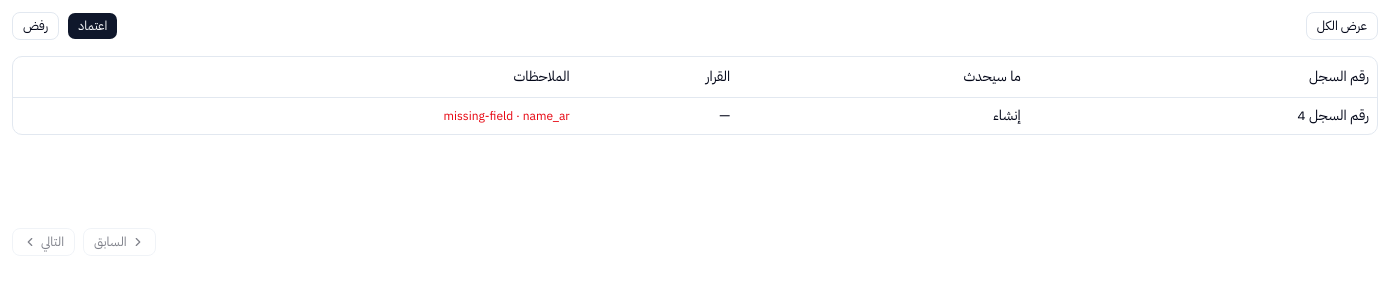
Scenario: import review step › filters to blocking rows by default on the review step
The image size is (1390, 303).
Expected: the text "رقم السجل 1" is not shown
Expected: the text "رقم السجل 2" is not shown
Click the button "عرض الكل" at (1342, 26), box left=1306, top=12, right=1378, bottom=40
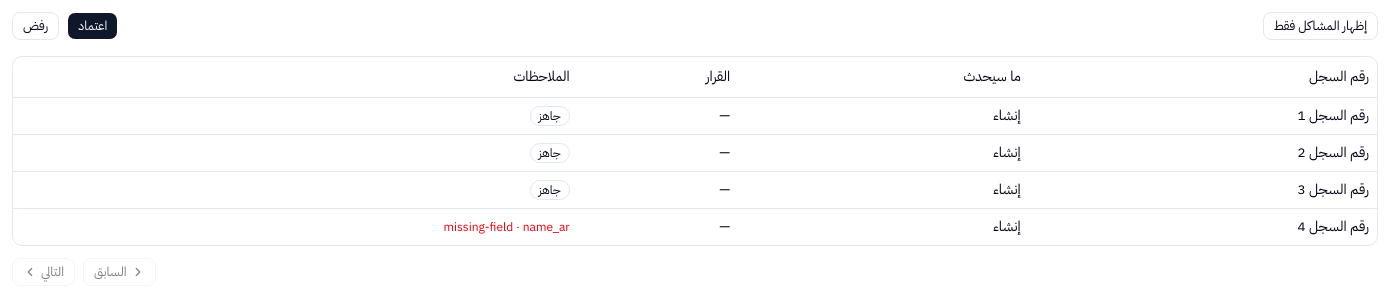
Result: the text "رقم السجل 1" is shown at left=1297, top=104, right=1369, bottom=126
Result: the text "رقم السجل 3" is shown at left=1297, top=178, right=1369, bottom=200
